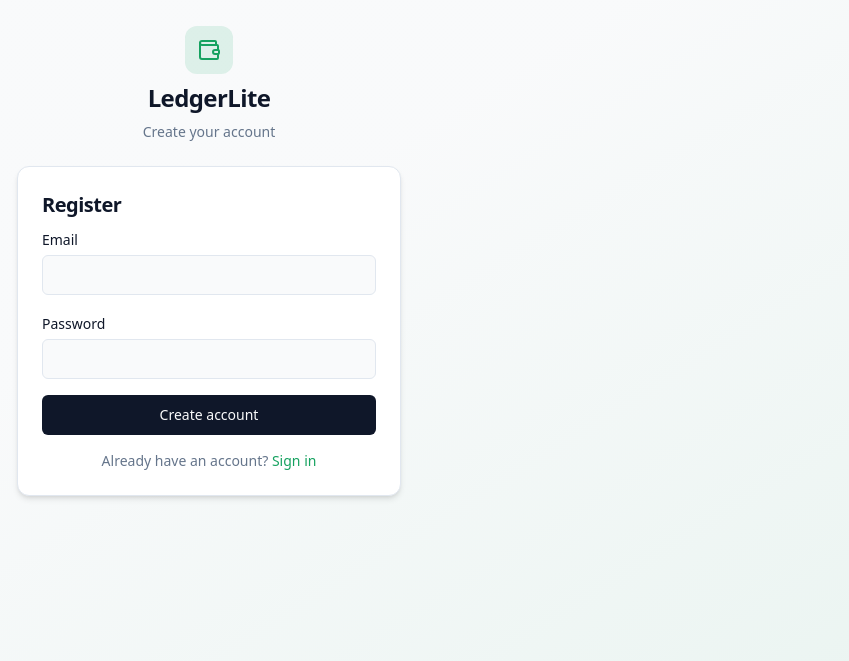
Test: Register page › shows a validation error for password shorter than 8 characters
The width and height of the screenshot is (849, 661).
In the field labelled "Email": point(209, 275) [42,255,376,295], type "new@example.com"
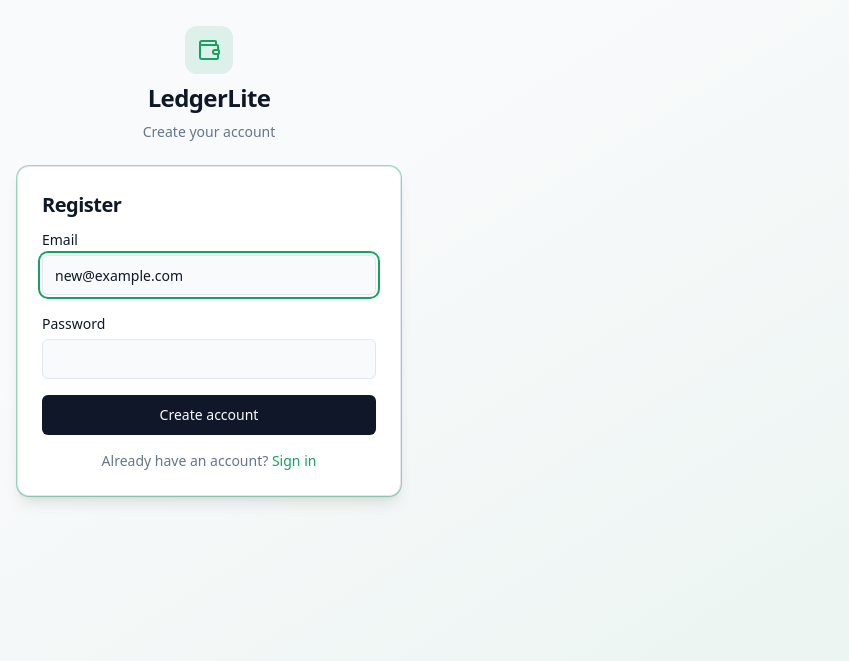
In the password field labelled "Password": point(209, 359) [42,339,376,379], type "tiny"
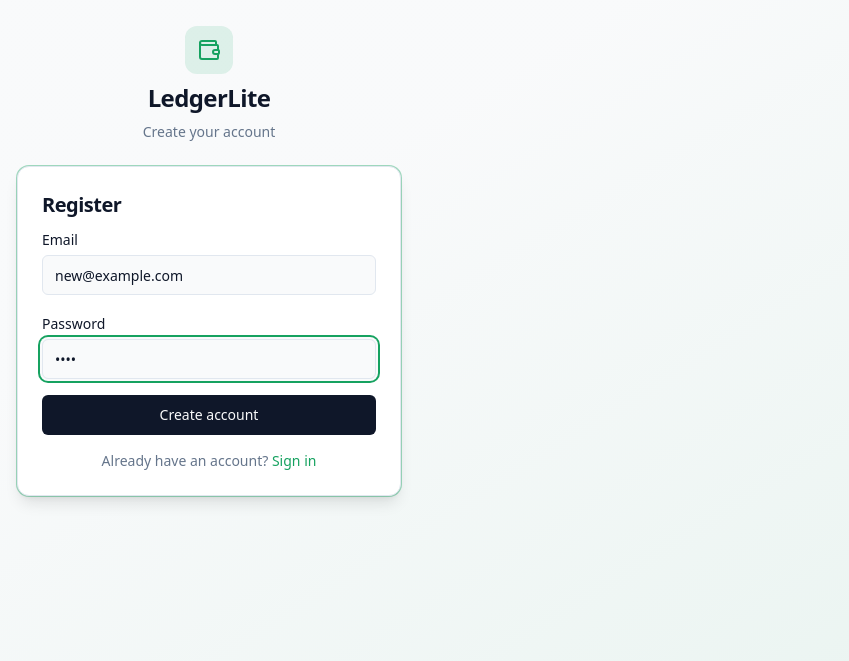
Click the button "Create account": point(209, 415) [42,395,376,435]
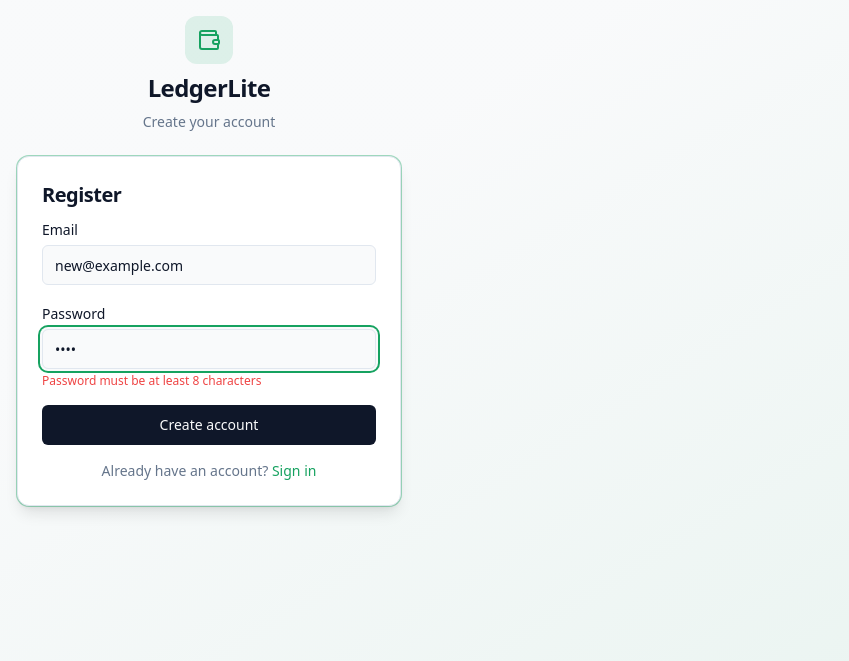
expect the text "Password must be at least 8 characters" is shown: met, box [42,372,261,389]
